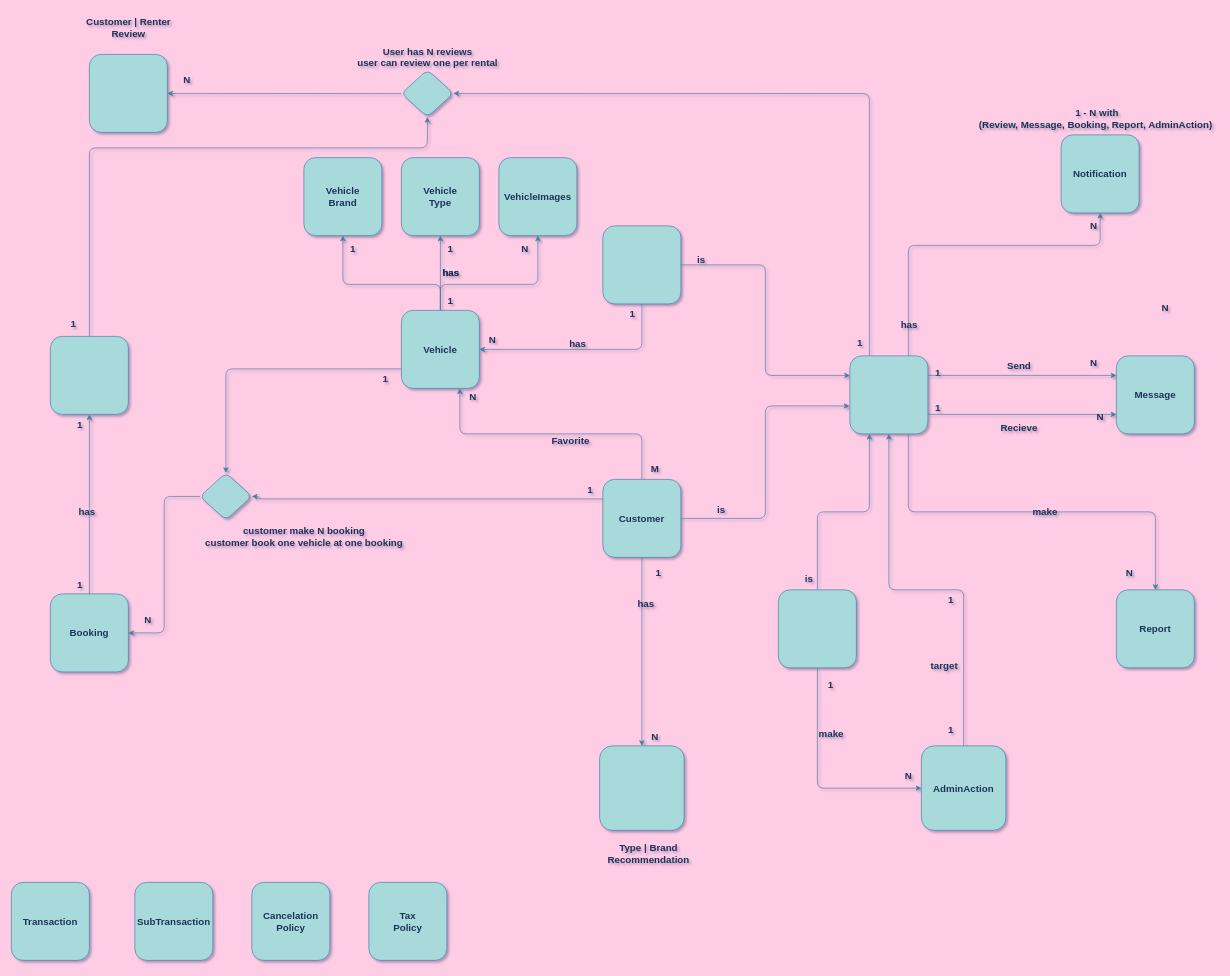
This 1230x976 diagram has some shape labels left out. Each missing label, with the centre of its shape:
"Admin" belongs at point 817,628.
"Recommen-dation" belongs at point 641,787.
"Rental" belongs at point 89,375.
"Renter" belongs at point 641,264.
"Review" belongs at point 128,93.
"User" belongs at point 888,394.
